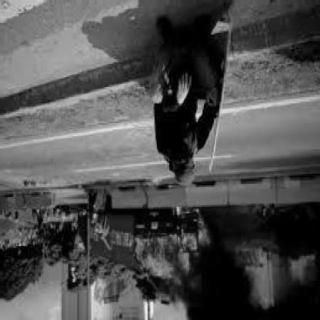Smoke: (202, 259, 254, 315), (280, 280, 317, 318)
